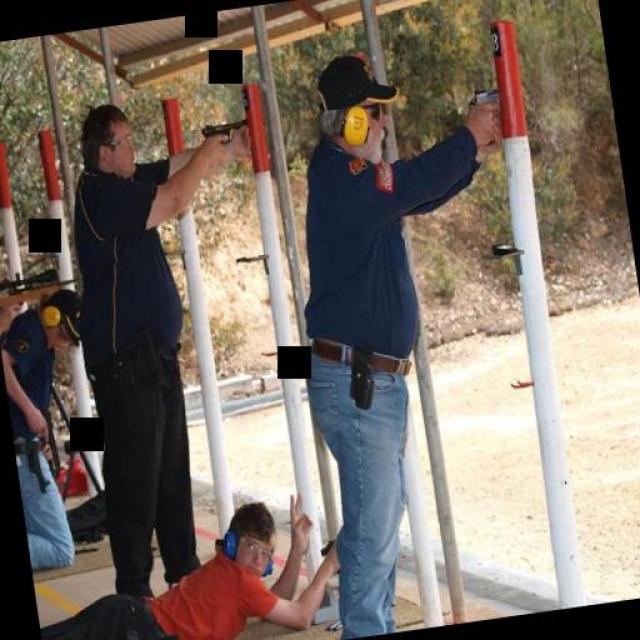gun: (194, 111, 260, 149), (460, 85, 501, 125)
